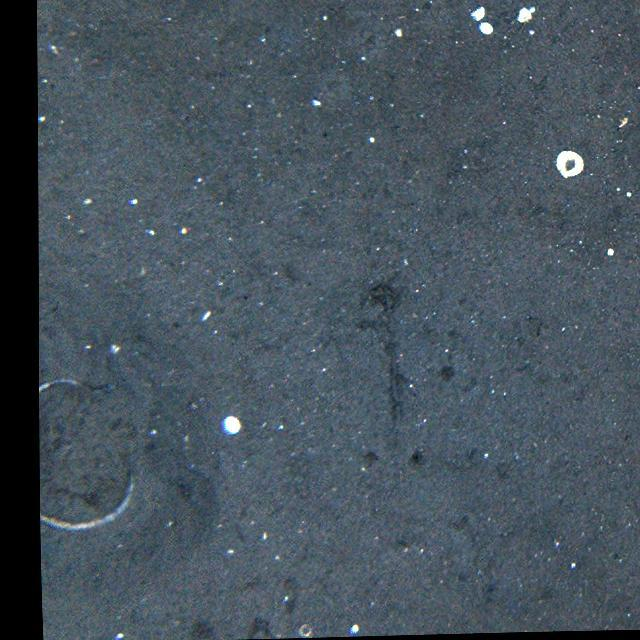scallop: (39, 383, 147, 533)
